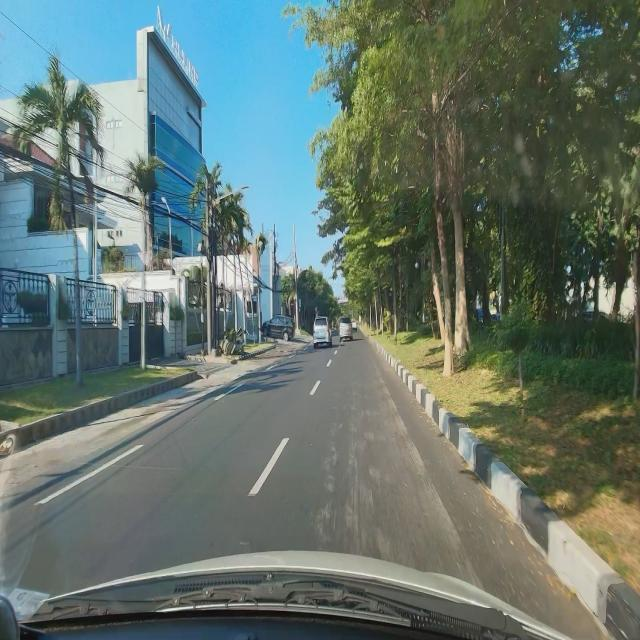car: (312, 317, 332, 351), (338, 316, 353, 346)
